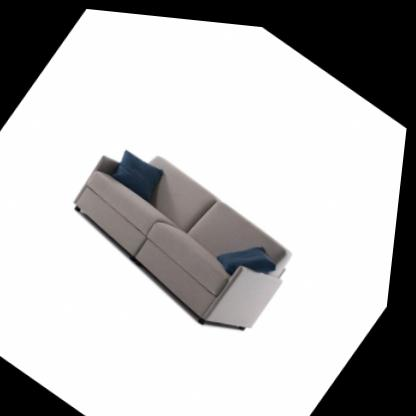Sofa: (48, 119, 318, 349)
